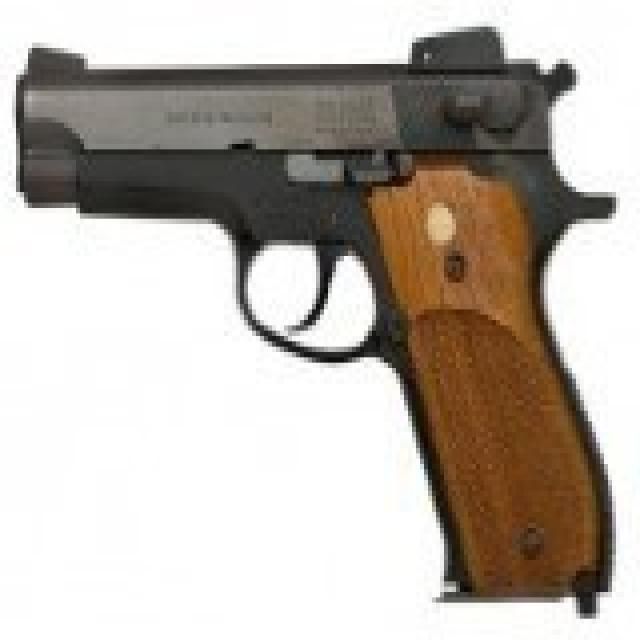Gun: (11, 16, 620, 604)
